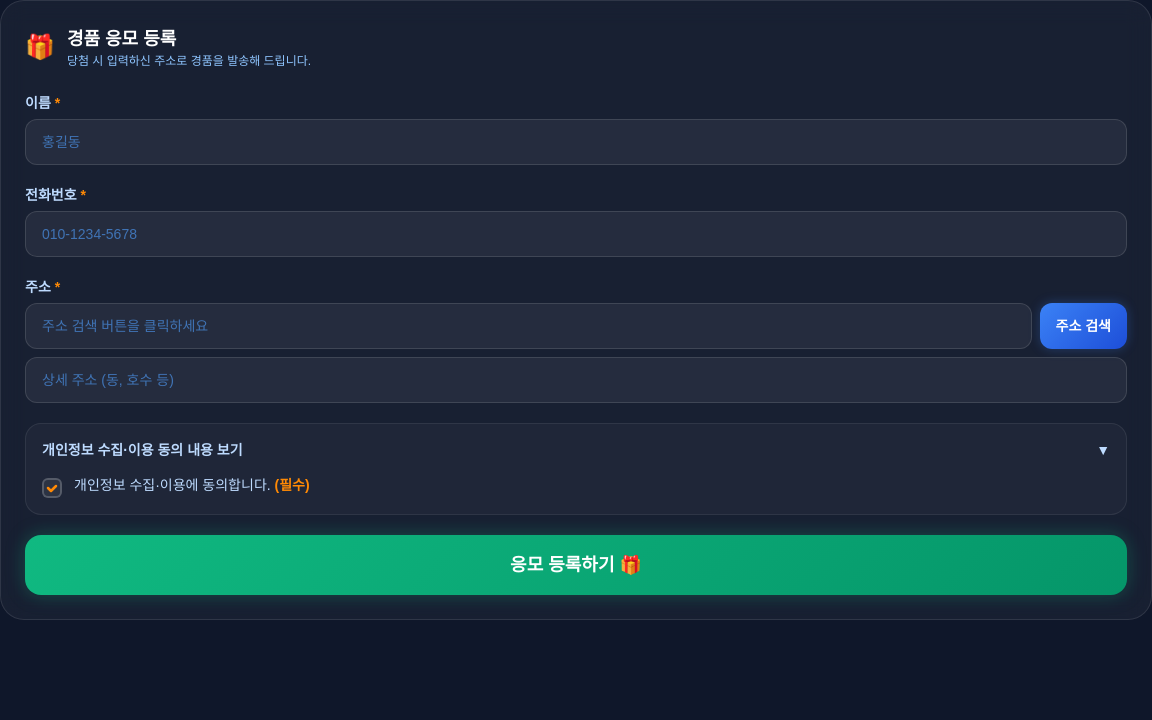
Test: ParticipantForm › 이름이 비어있으면 에러 메시지가 표시된다
Step 1. Click the button "응모 등록하기 🎁" → click(576, 565), box 25,535 -> 1127,595
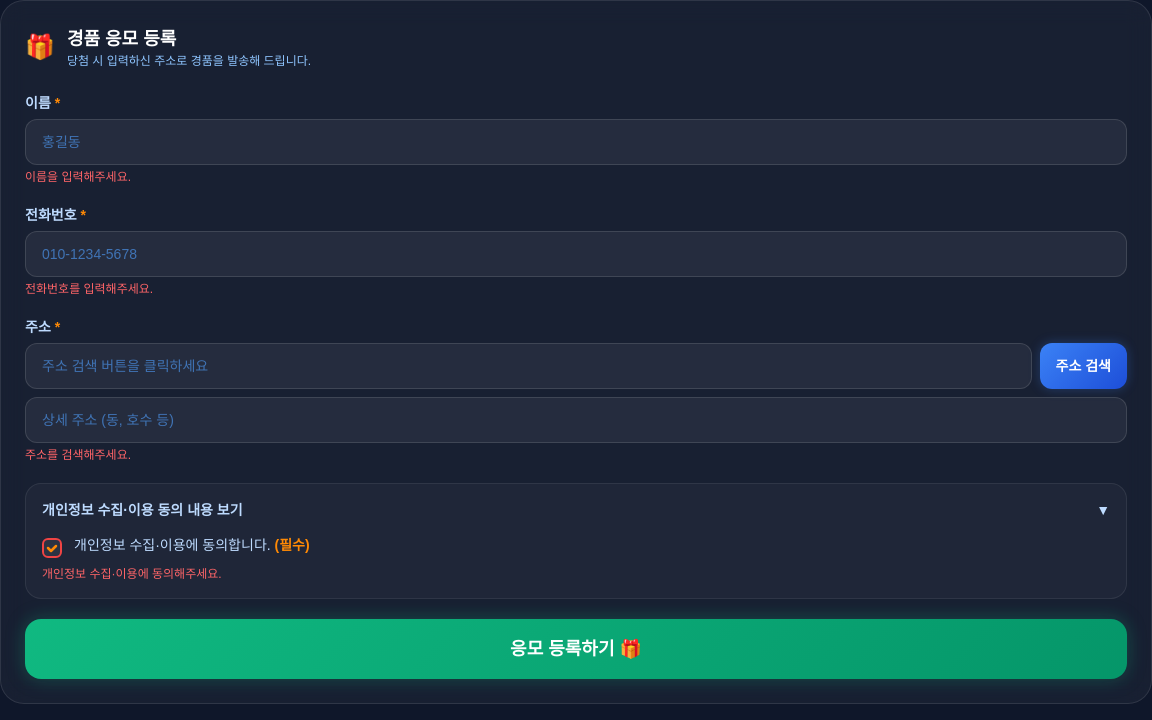
Result: the text "이름을 입력해주세요." is shown at 25,170 -> 131,184
